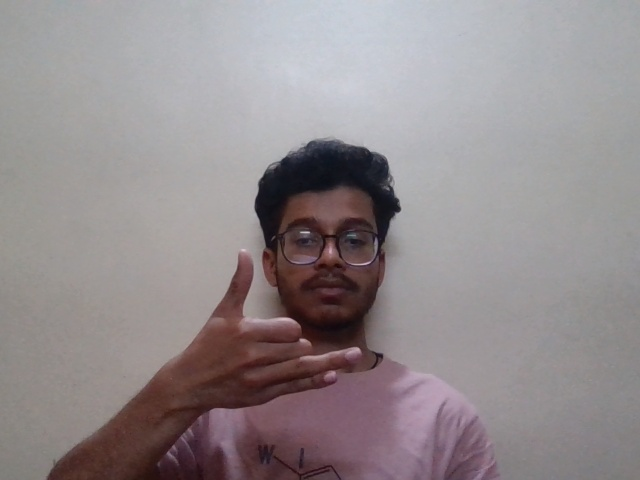project: (153, 245, 370, 418)
